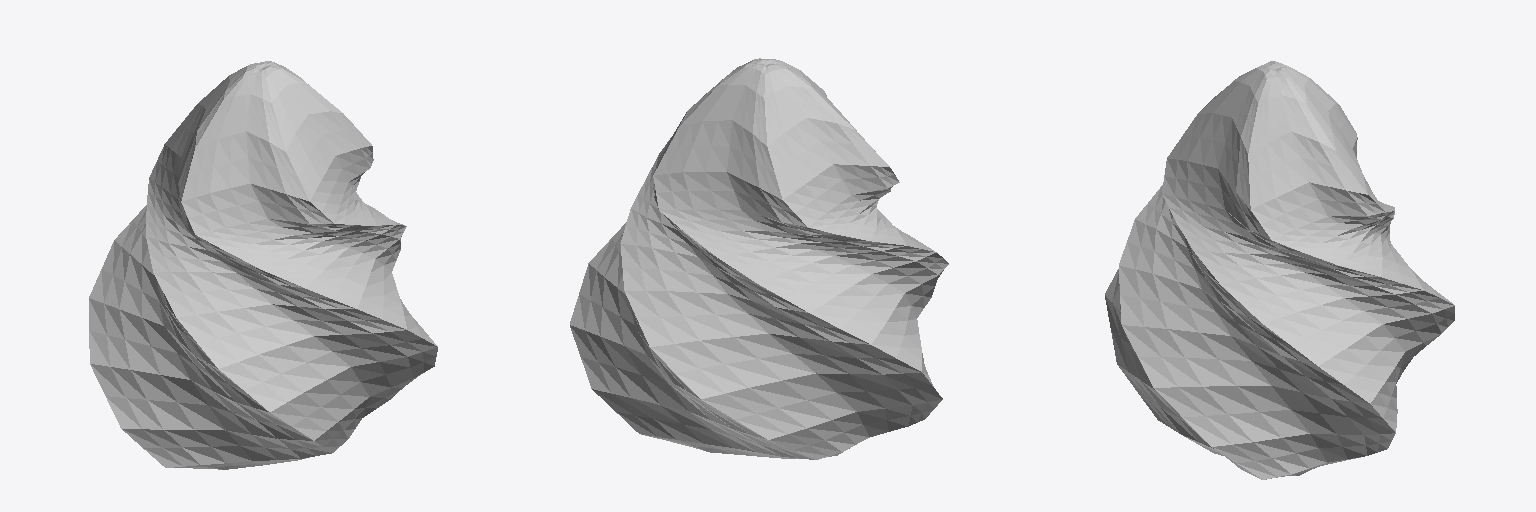
3 renders of one model, left to right at view 1: azimuth 30°, elevation 25°; view 2: azimuth 150°, elevation 25°; view 3: azimuth 270°, elevation 25°, orthographic.
Visible parts, largest first — view 1: Bud.001; view 2: Bud.001; view 3: Bud.001.
Boxes of the visible parts, <box> form: Bud.001: <box>89,61,437,469</box>; Bud.001: <box>570,58,948,459</box>; Bud.001: <box>1105,61,1454,479</box>.
Bounding box in the file's own units: 1.5 × 1.71 × 1.42.